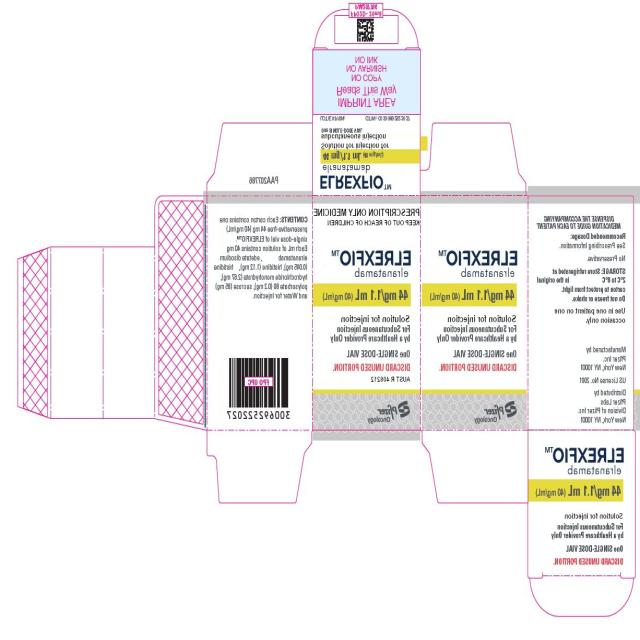Artwork: (0, 0, 640, 640)
Back_Panel: (528, 195, 633, 430)
Bottom_Part: (313, 49, 421, 196)
Extra_Areas: (16, 195, 206, 433), (421, 119, 527, 195), (421, 430, 528, 504), (206, 122, 312, 196), (207, 432, 312, 504)
Front_Panel: (312, 196, 421, 432)
Side_Panel: (421, 195, 528, 431), (207, 196, 312, 431)
Top_Panel: (529, 430, 637, 579)
